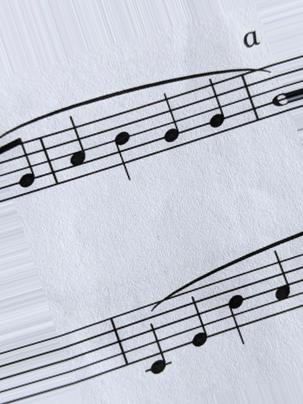A: (59, 116, 90, 183), (266, 250, 296, 319)
B: (219, 277, 257, 355), (109, 112, 141, 184)
E: (184, 291, 210, 350)
G: (198, 77, 230, 138), (155, 91, 186, 153)
LC: (133, 305, 178, 380)
